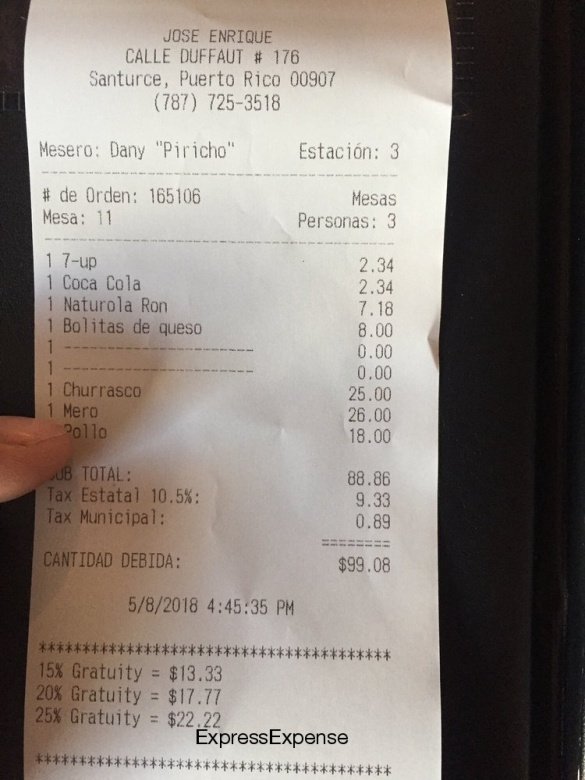Additional details: (22, 625, 401, 780)
Purchase summary: (32, 131, 405, 626)
Receipt: (22, 1, 444, 777)
Shop details: (83, 15, 341, 126)
